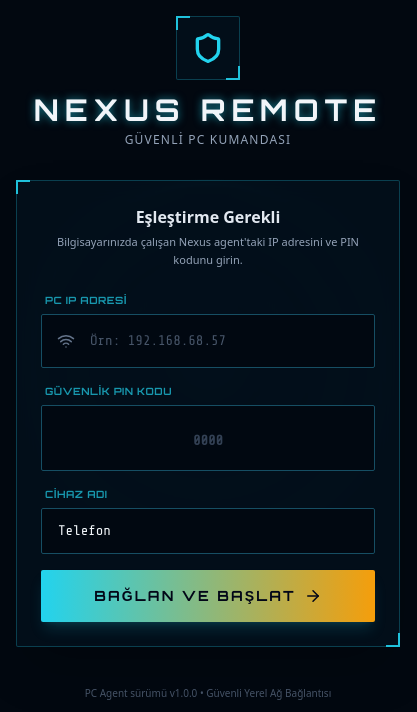
Test case: ConnectScreen › validates that an IP is present before pairing
Click the button "Bağlan ve Başlat" at (208, 596), box [41,570,375,622]
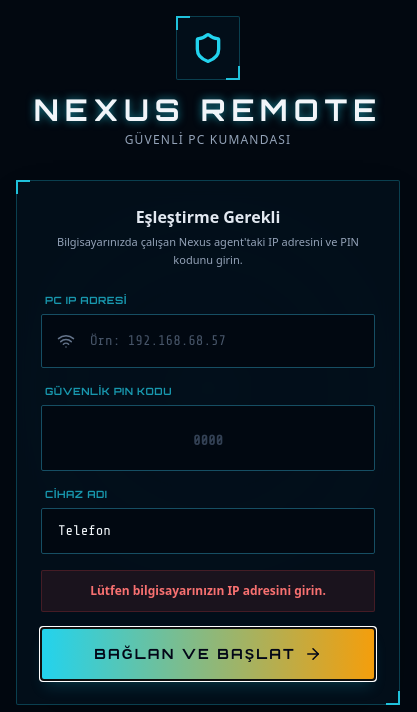
Expected: the text "Lütfen bilgisayarınızın IP adresini girin." is shown, [41,570,375,612]
